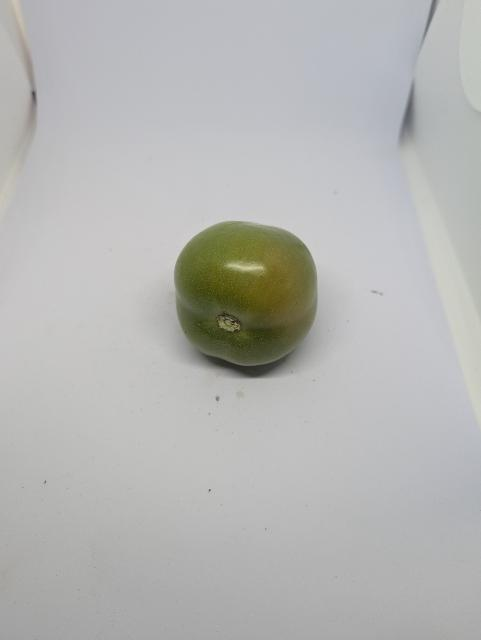green: (170, 218, 321, 369)
